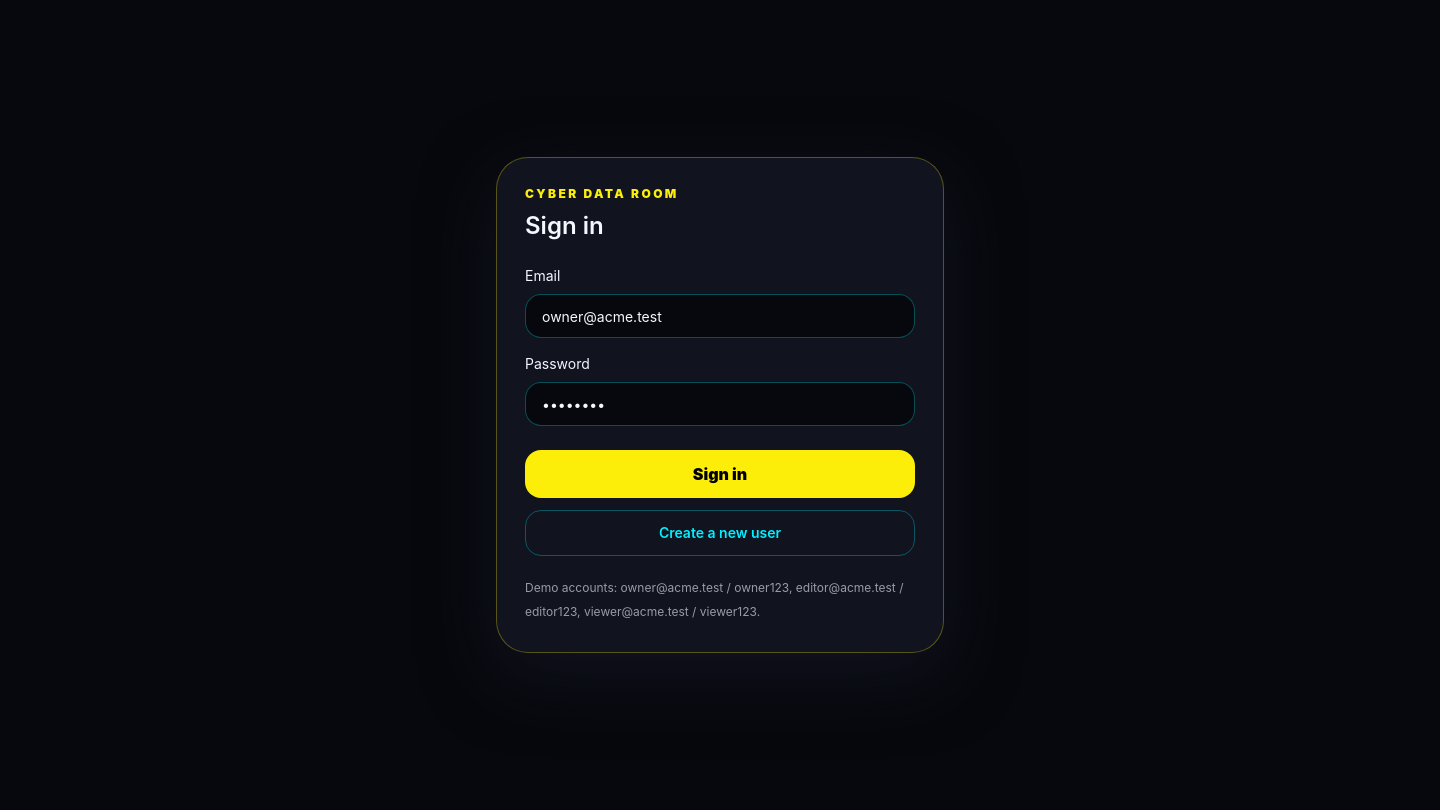
Test: App › creates a user from the login screen
Click the button "Create a new user" at (720, 533), box top-left (525, 510), bottom-right (915, 556)
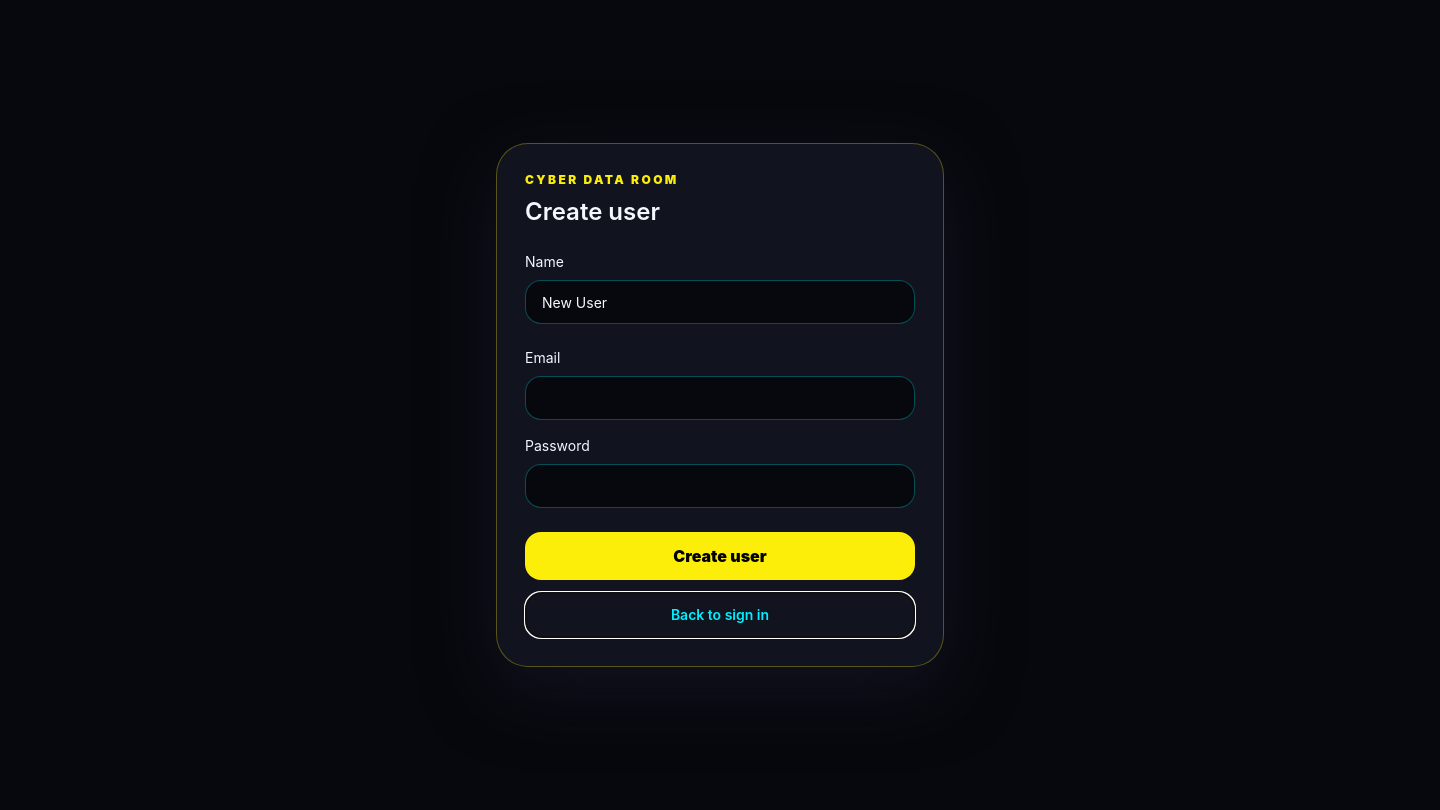
Replace the text in the field labelled "Name" with "Nina New" at (720, 302), box top-left (525, 280), bottom-right (915, 324)
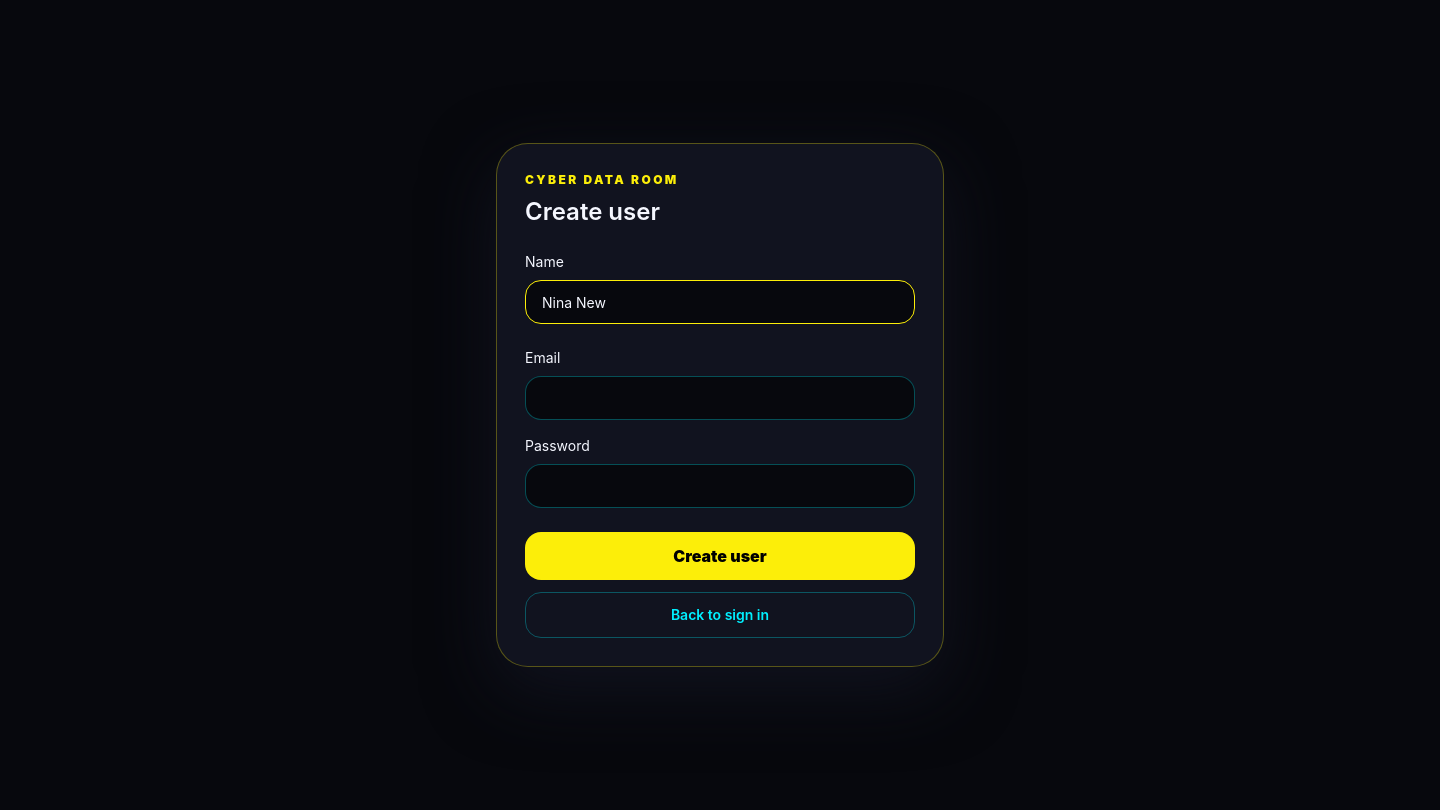
Type "nina@example.test" into the field labelled "Email" at (720, 398), box top-left (525, 376), bottom-right (915, 420)
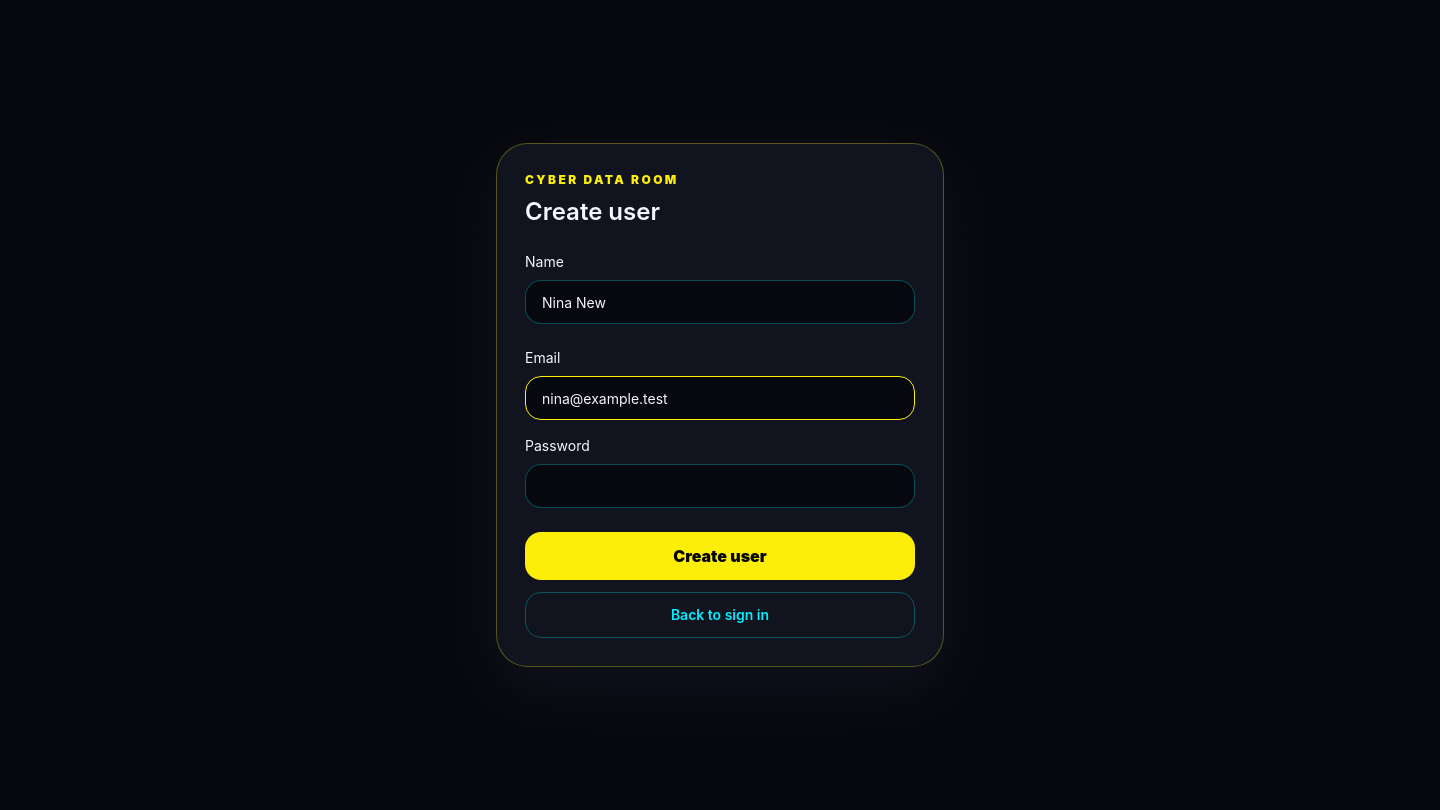
Type "nina123" into the password field labelled "Password" at (720, 486), box top-left (525, 464), bottom-right (915, 508)
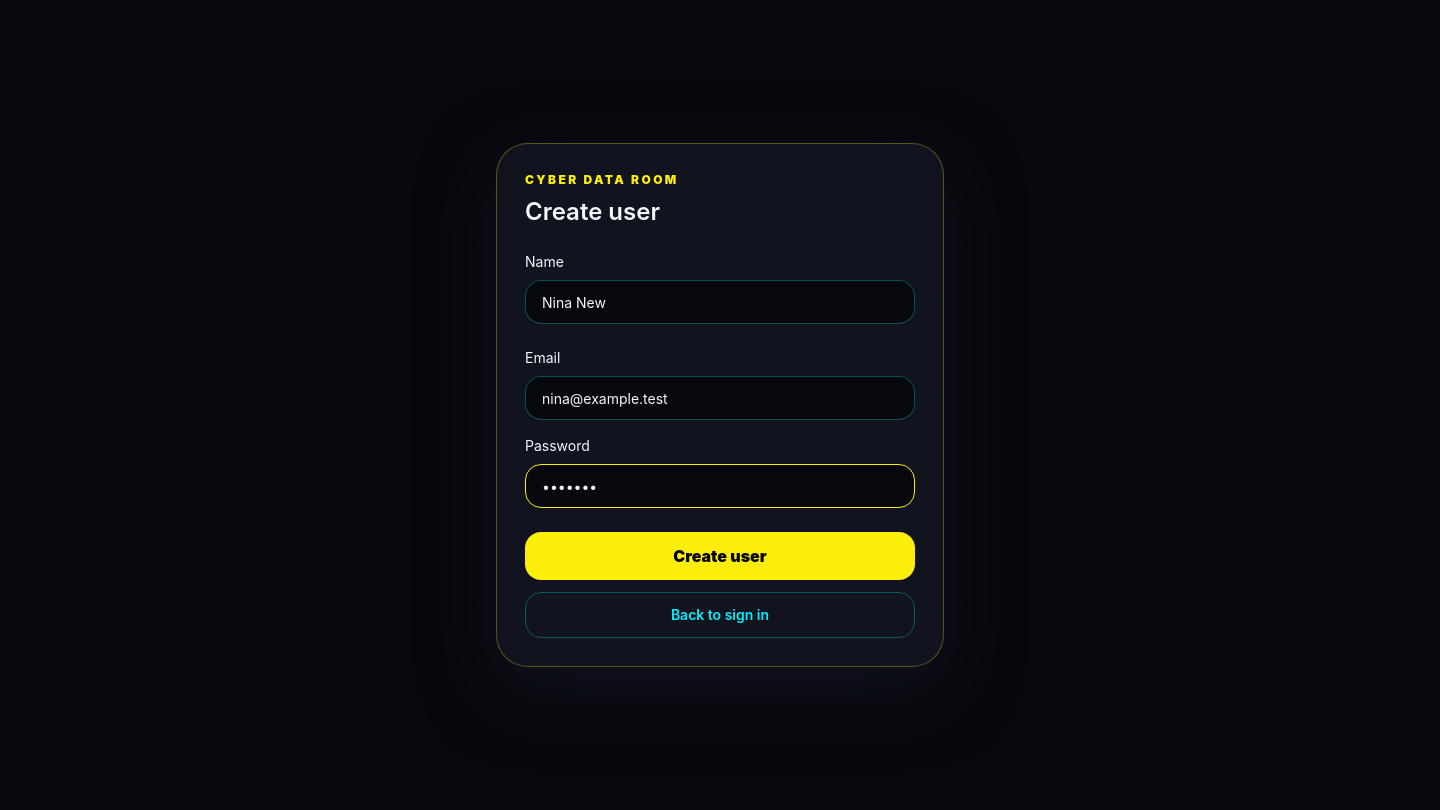
Click the button "Create user" at (720, 556), box top-left (525, 532), bottom-right (915, 580)
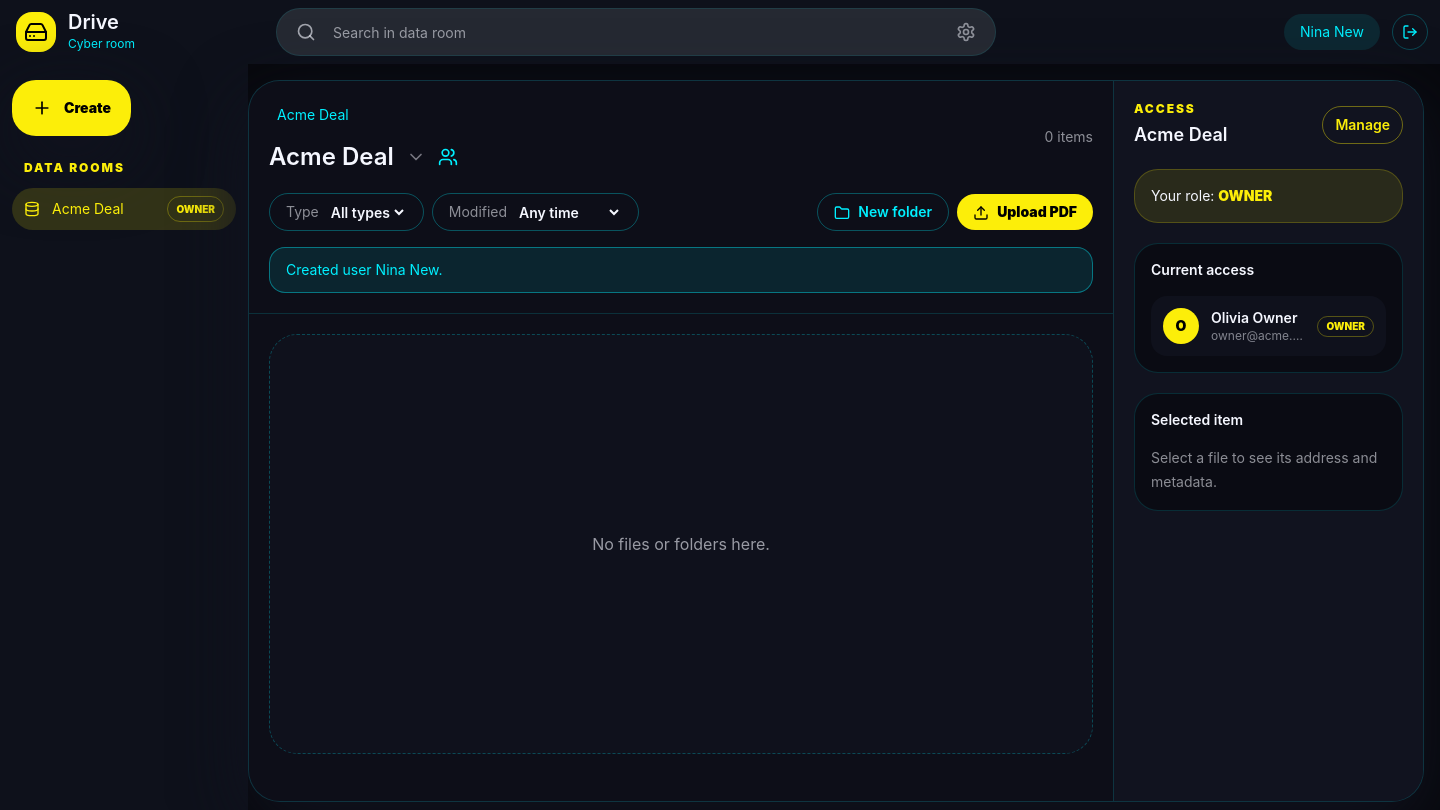
expect the text "Nina New" is shown: met, box top-left (1284, 14), bottom-right (1380, 50)
